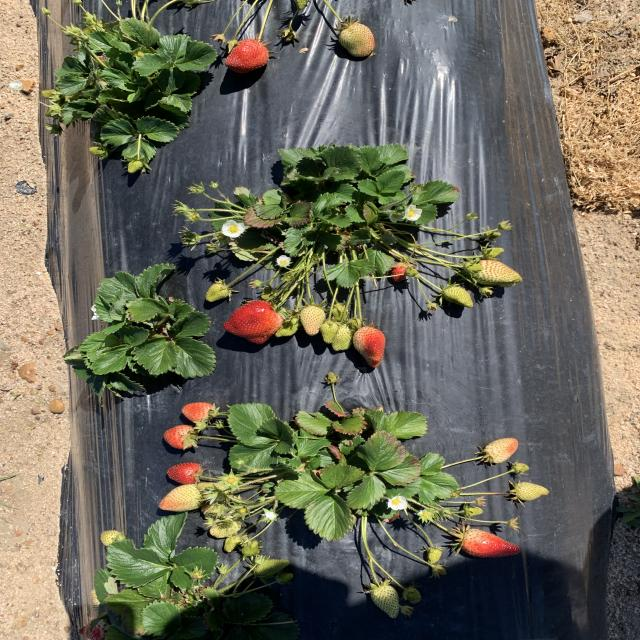unripe: (223, 300, 287, 347), (458, 529, 522, 557), (224, 41, 270, 72), (356, 327, 388, 367), (165, 424, 198, 448), (167, 462, 203, 484), (79, 622, 115, 637), (183, 403, 212, 420), (390, 262, 410, 280)
